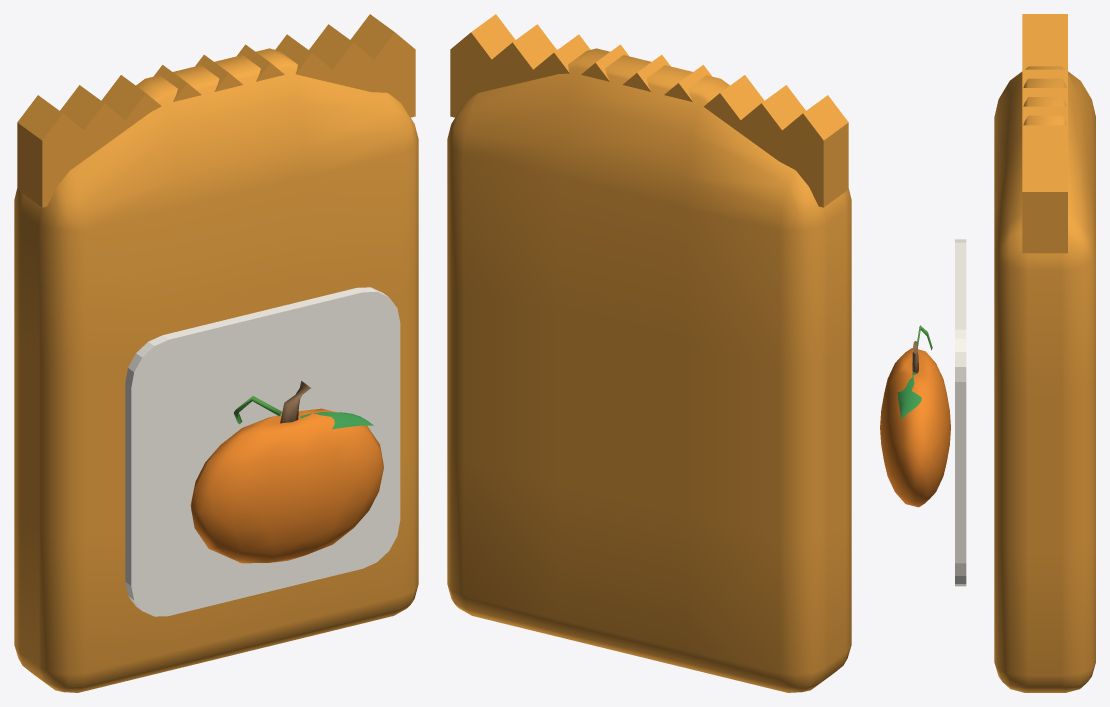
The model's file is semente-abobora.glb.
3 renders of one model, left to right at view 1: azimuth 30°, elevation 25°; view 2: azimuth 150°, elevation 25°; view 3: azimuth 270°, elevation 25°, orthographic. The views are drawn at different scales.
Visible parts, largest first — view 1: semente-abobora; view 2: semente-abobora; view 3: semente-abobora.
Boxes of the visible parts, x1=… form: semente-abobora: x1=14, y1=14, x2=418, y2=692; semente-abobora: x1=447, y1=14, x2=851, y2=692; semente-abobora: x1=880, y1=14, x2=1095, y2=692.
Size of the model in its own units: 0.14 by 0.208 by 0.0766.
